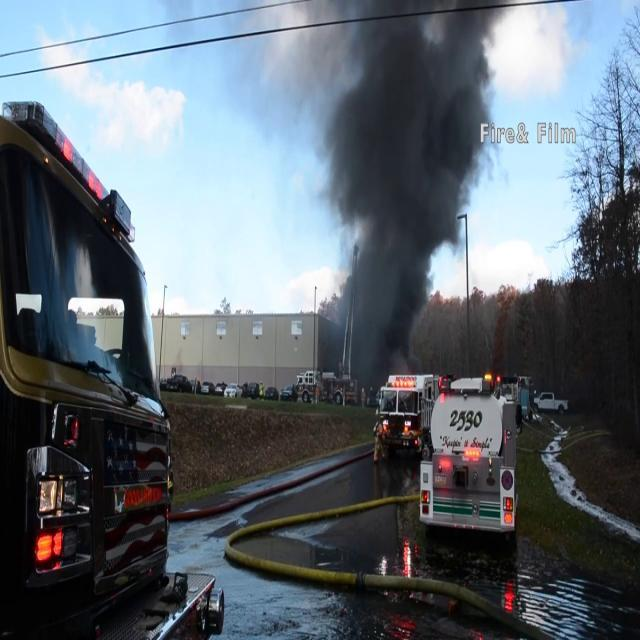Smoke: (306, 4, 504, 373), (0, 55, 158, 402)
